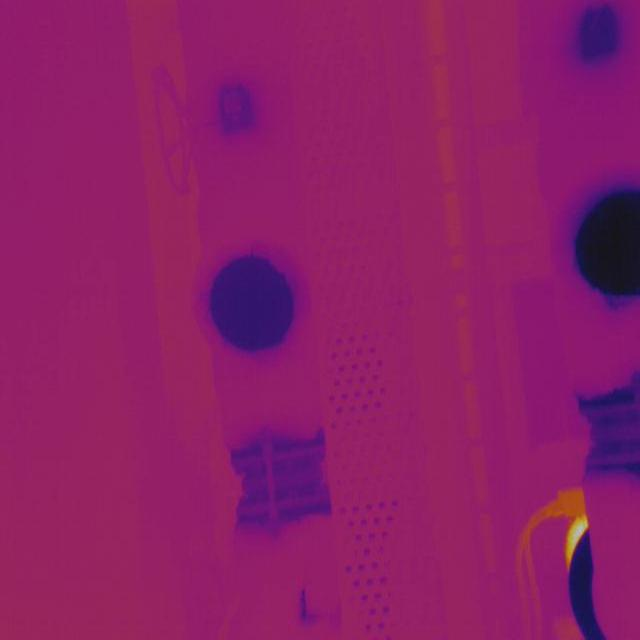leakage: (293, 574, 327, 631)
